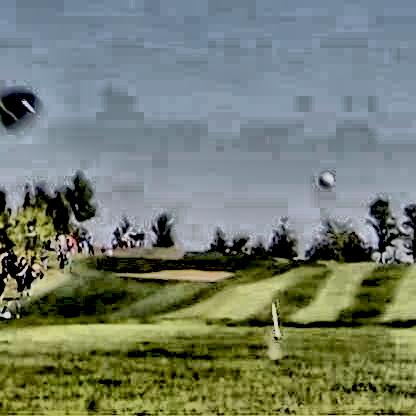golfball: (315, 168, 331, 187)
